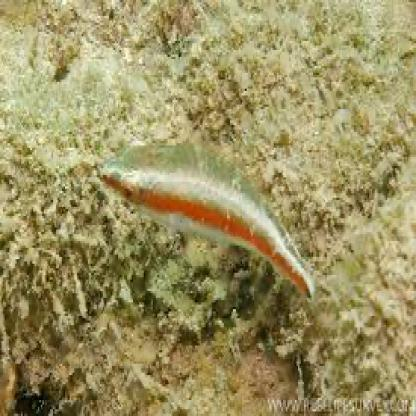parrot: (99, 108, 325, 326)
